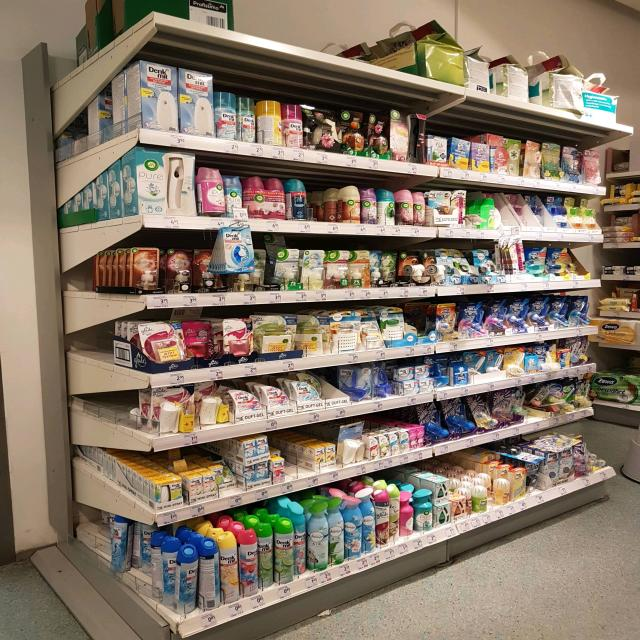empty: (297, 176, 346, 226), (284, 432, 318, 486)
